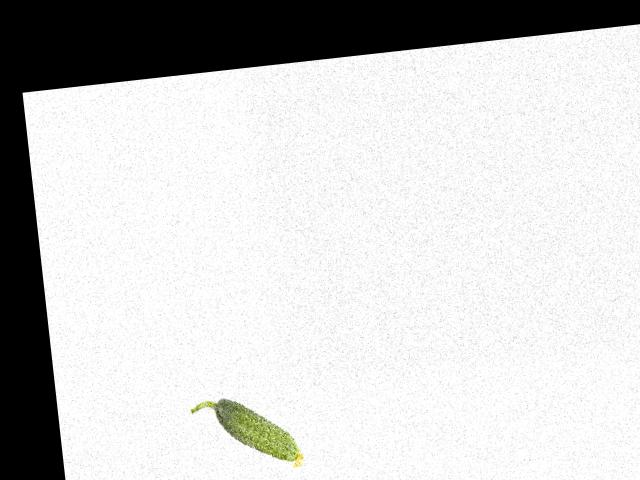cucumber: (190, 390, 305, 479)
